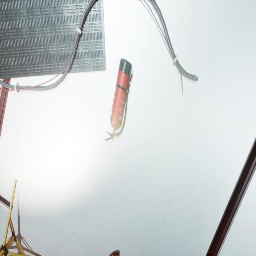FireExtinguisher ]: (105, 58, 133, 141)
NitrogenTank ,: (109, 252, 119, 256)
